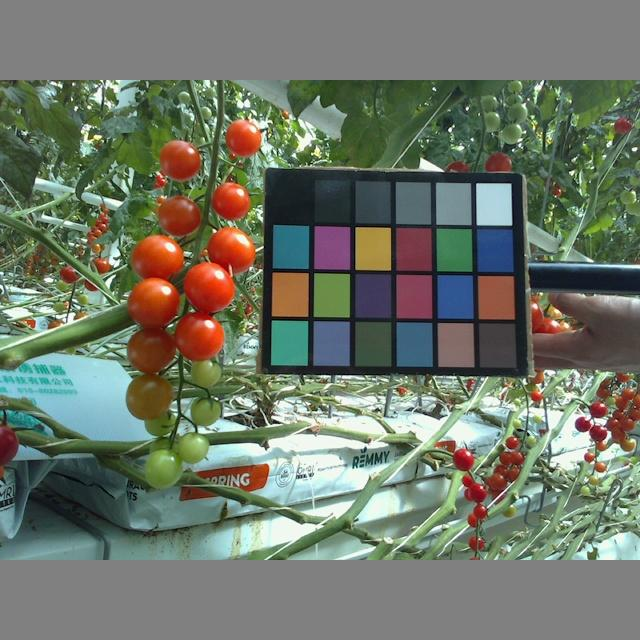green: (141, 447, 184, 488), (176, 431, 208, 464), (187, 357, 221, 388), (142, 409, 177, 437), (189, 396, 219, 427)
pink: (184, 258, 236, 314), (126, 277, 180, 328), (174, 310, 225, 361), (131, 235, 185, 282), (203, 227, 256, 274), (126, 328, 176, 373), (126, 374, 173, 420), (156, 195, 201, 238), (159, 139, 202, 182), (209, 181, 252, 219), (221, 120, 262, 157)
